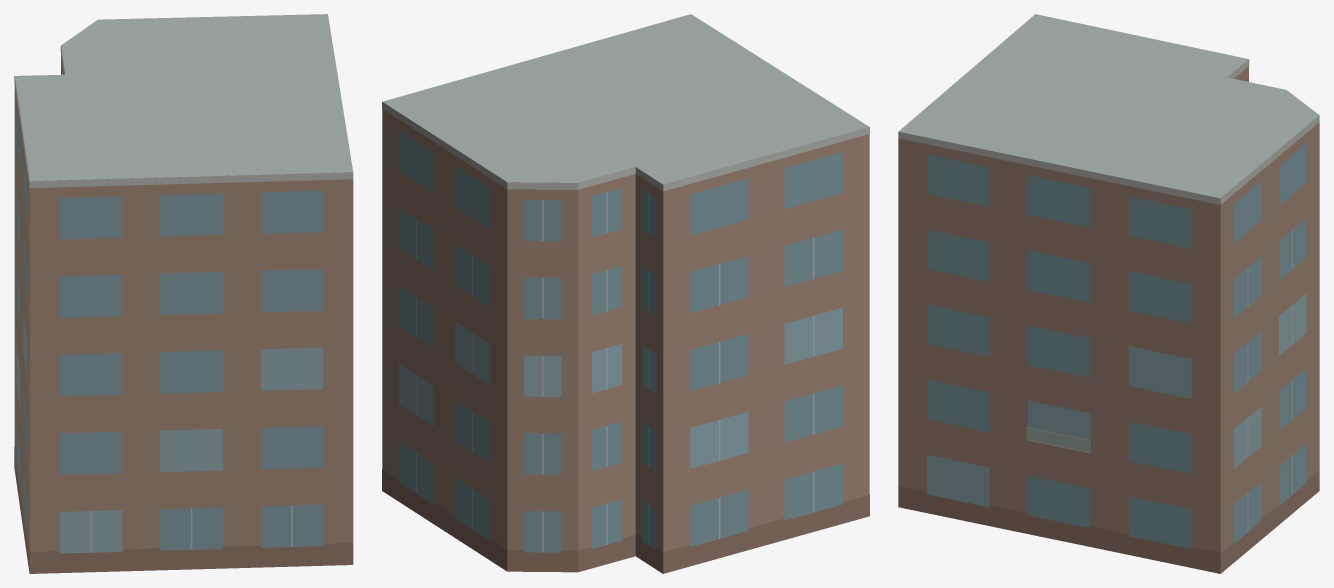
Rendered from survey-upis-32886646.glb.
3 views of the same model, side by side, from view 1: azimuth 30°, elevation 25°; view 2: azimuth 150°, elevation 25°; view 3: azimuth 270°, elevation 25° (orthographic). The views are drawn at different scales.
Parts seen in each view (by area): view 1: survey-upis-32886646.tmp; view 2: survey-upis-32886646.tmp; view 3: survey-upis-32886646.tmp.
Part boxes in pixels (x1,y1,x2,y2): survey-upis-32886646.tmp: (14, 14, 353, 573); survey-upis-32886646.tmp: (382, 14, 869, 573); survey-upis-32886646.tmp: (898, 14, 1319, 573).
Size of the model in its own units: 14.43 by 13.7 by 13.94.
